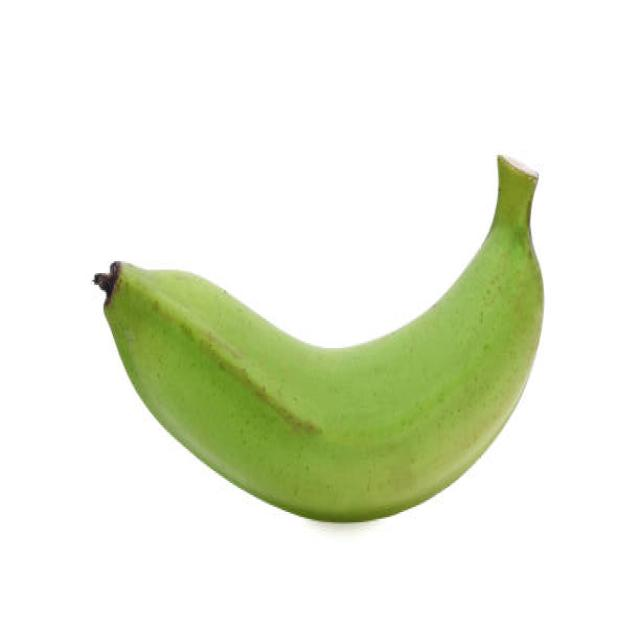banana: (93, 154, 546, 527)
